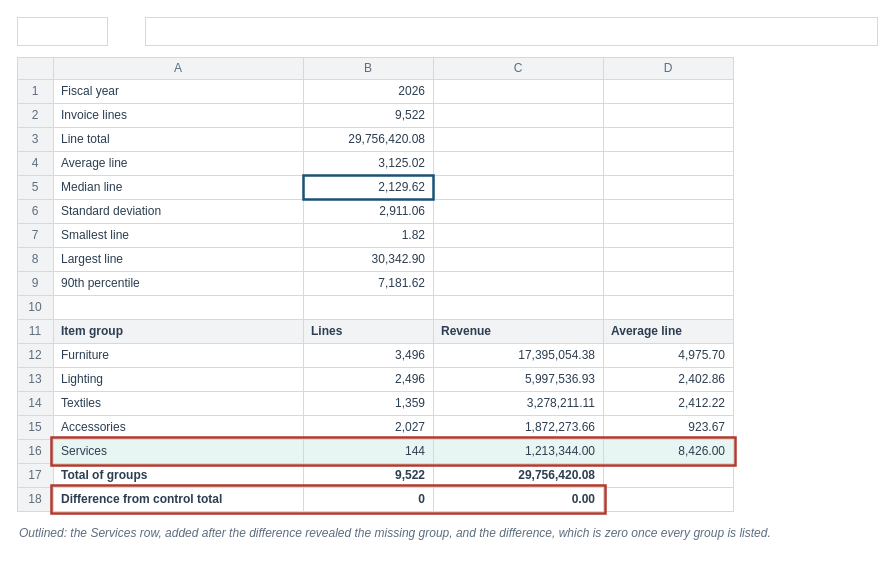
Image size: 895x579. Some labels were removed from this diagram. The shapes that lost their labels are listed below. From the top down, each one's centre as x and y in pixels, then its label:
the point at 62,31: B5
the point at 126,31: fx
the point at 511,31: =MEDIAN(FILTER(InvoiceLines[LineTotal],InvoiceLines[FiscalYear]=ReportYear))
